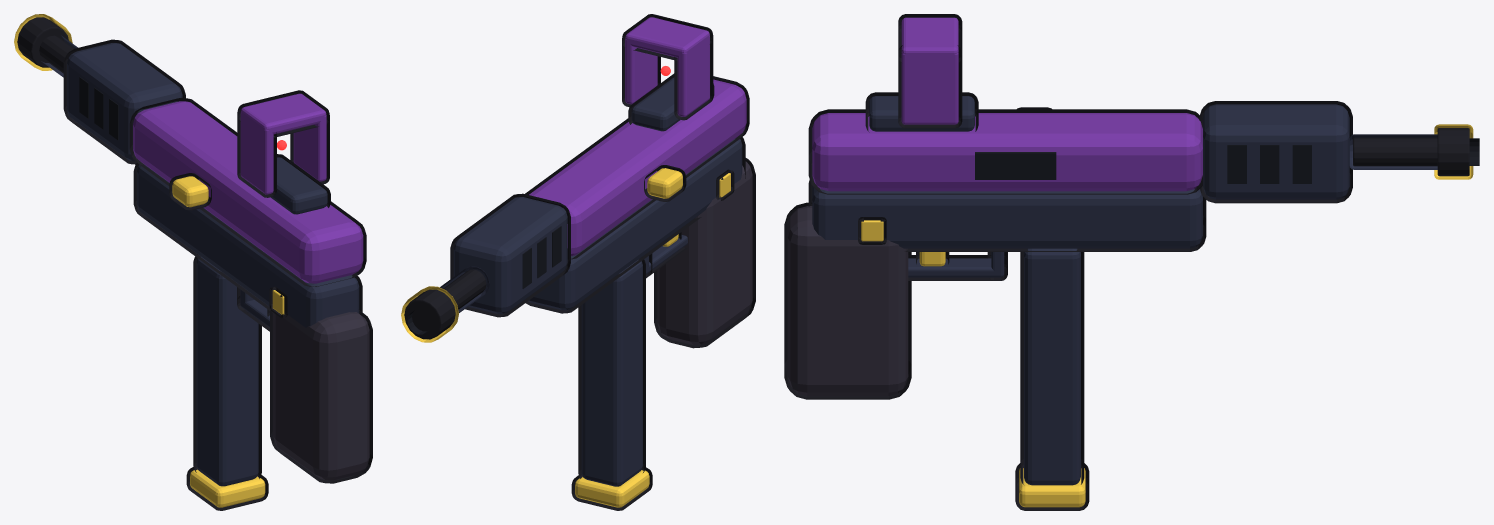
The model's file is smg.glb.
The picture shows the model from 3 angles, left to right: view 1: azimuth 30°, elevation 25°; view 2: azimuth 150°, elevation 25°; view 3: azimuth 270°, elevation 25°; orthographic projection. The views are drawn at different scales.
Parts seen in each view (by area): view 1: Receiver, Grip, Magazine, Frame, Shroud, HoodTop, HoodL, SightMount, MagBase, HoodR, MuzzleRing, Slide (+3 smaller); view 2: Receiver, Magazine, Grip, Frame, Shroud, HoodTop, HoodL, MuzzleRing, MagBase, HoodR, SightMount, Barrel (+3 smaller); view 3: Receiver, Frame, Grip, Magazine, Shroud, HoodR, Barrel, HoodTop, Port, MagBase, SightMount, GuardBottom (+5 smaller).
Part boxes in pixels (box(x1,y1,x2,y2)): Receiver: box(129, 98, 366, 286); Grip: box(270, 309, 372, 483); Magazine: box(193, 254, 261, 486); Frame: box(133, 163, 362, 327); Shroud: box(63, 39, 185, 164); HoodTop: box(237, 90, 329, 137); HoodL: box(237, 105, 276, 197); SightMount: box(271, 154, 330, 214); MagBase: box(186, 467, 268, 510); HoodR: box(290, 92, 329, 184); MuzzleRing: box(14, 14, 72, 70); Slide: box(169, 173, 211, 210); Receiver: box(525, 76, 749, 259); Magazine: box(578, 257, 645, 486); Grip: box(654, 158, 755, 348); Frame: box(525, 137, 745, 313); Shroud: box(450, 193, 570, 317); HoodTop: box(622, 14, 712, 60); HoodL: box(674, 29, 713, 120); MuzzleRing: box(401, 286, 458, 342); MagBase: box(571, 467, 652, 510); HoodR: box(622, 16, 660, 107); SightMount: box(628, 73, 714, 131); Barrel: box(440, 266, 489, 312); Receiver: box(808, 109, 1202, 194); Frame: box(808, 179, 1206, 251); Grip: box(784, 202, 911, 399); Magazine: box(1020, 248, 1084, 485); Shroud: box(1199, 101, 1352, 203); HoodR: box(898, 45, 962, 128); Barrel: box(1349, 134, 1437, 169); HoodTop: box(898, 14, 962, 62); Port: box(975, 152, 1056, 179); MagBase: box(1015, 463, 1089, 510); SightMount: box(865, 92, 978, 132); GuardBottom: box(908, 255, 1007, 280).
Size of the model in its own units: 0.0738 by 0.3187 by 0.4272.
